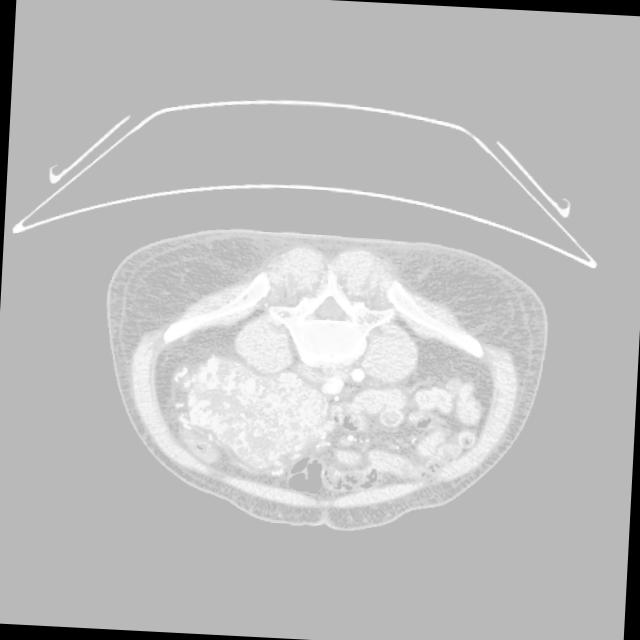TUMOR: (137, 248, 548, 484)
